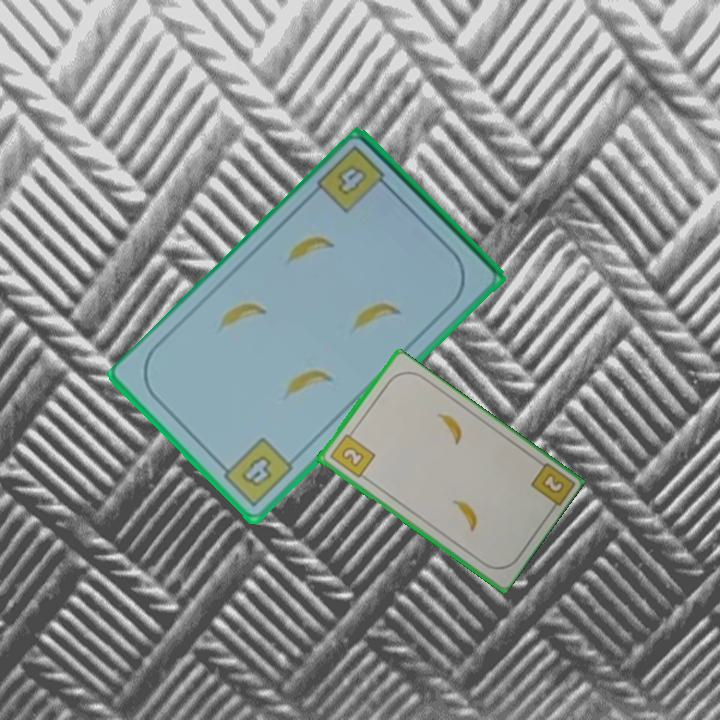2b: (326, 427, 377, 481), (538, 469, 567, 497)
4b: (215, 433, 297, 510), (314, 142, 396, 217)
